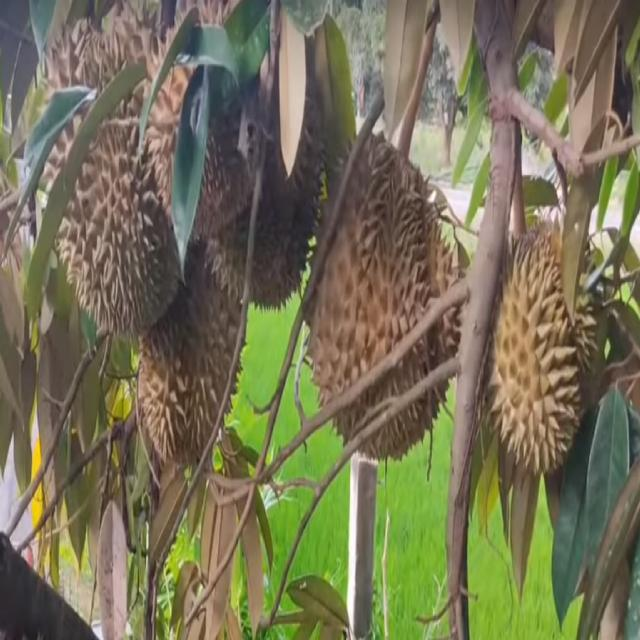mature: (306, 127, 467, 465), (34, 10, 188, 328), (476, 223, 600, 483), (137, 199, 249, 464)
